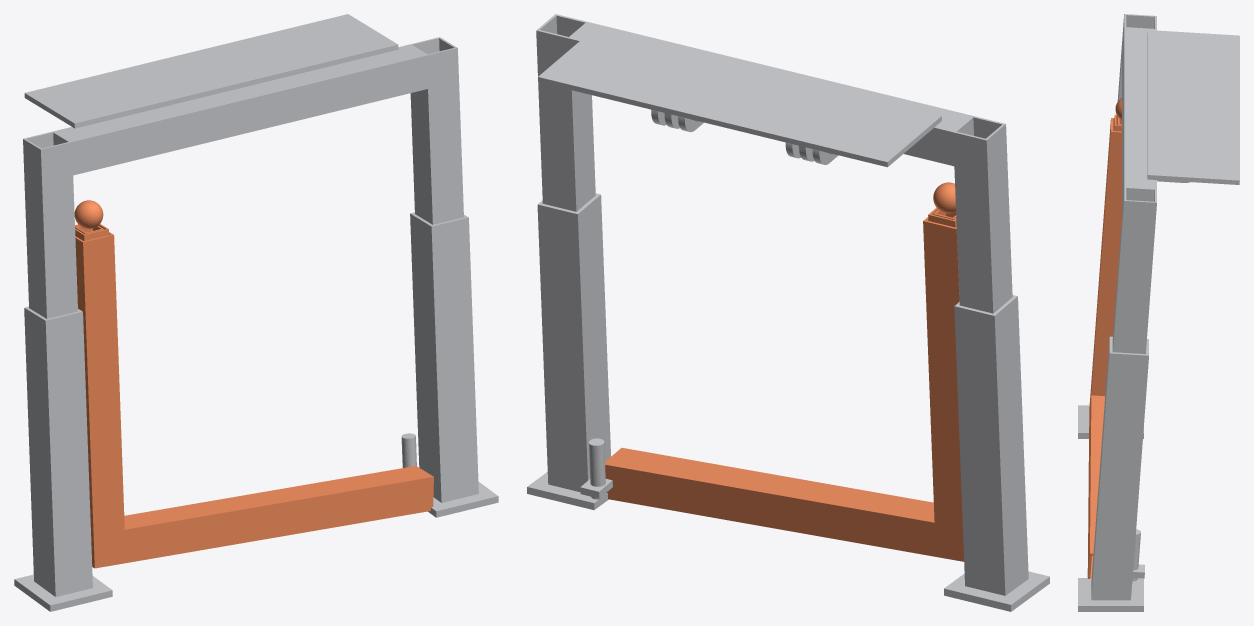
File: center_stand_stowed.glb
3 renders of one model, left to right at view 1: azimuth 30°, elevation 25°; view 2: azimuth 150°, elevation 25°; view 3: azimuth 270°, elevation 25°, orthographic. The views are drawn at different scales.
Parts seen in each view (by area): view 1: frame, handle; view 2: frame, handle; view 3: frame, handle.
Part boxes in pixels (box(x1,y1,x2,y2)): frame: box(14, 14, 498, 611); handle: box(74, 200, 433, 568); frame: box(527, 14, 1049, 611); handle: box(605, 182, 963, 561); frame: box(1078, 14, 1239, 611); handle: box(1087, 98, 1121, 578).
Size of the model in its own units: 0.4572 by 0.4343 by 0.1557.
